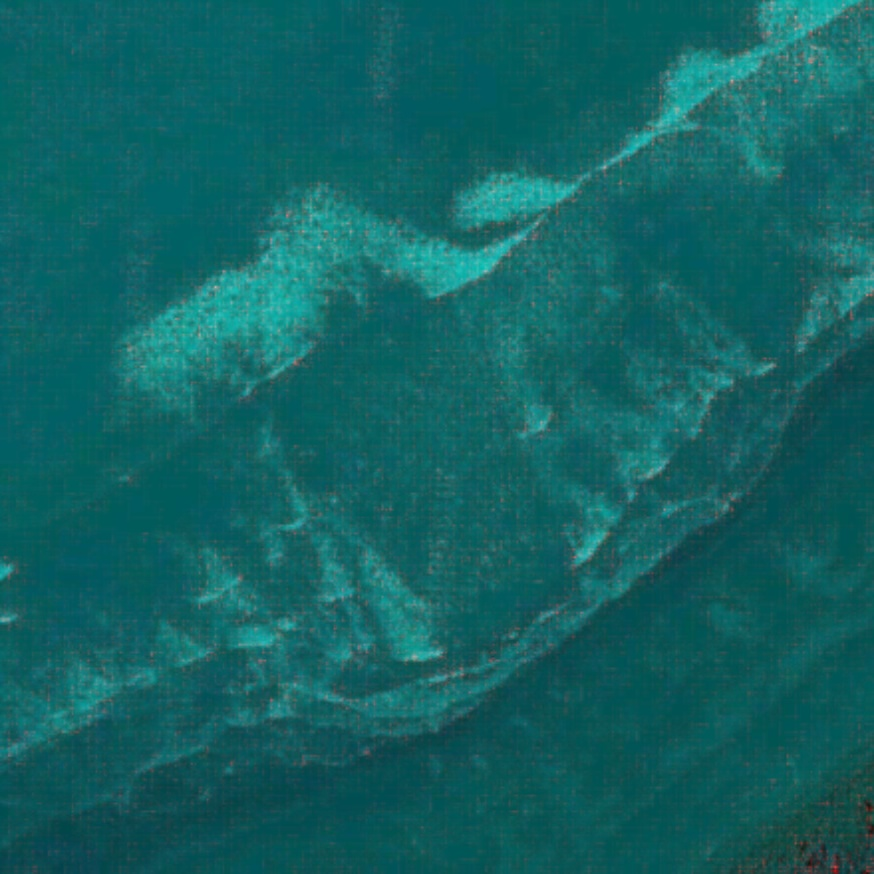rip_current: (168, 181, 593, 658)
